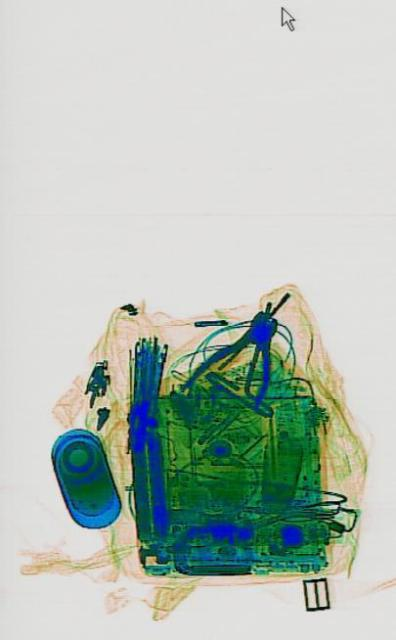Pliers: (176, 274, 290, 451)
